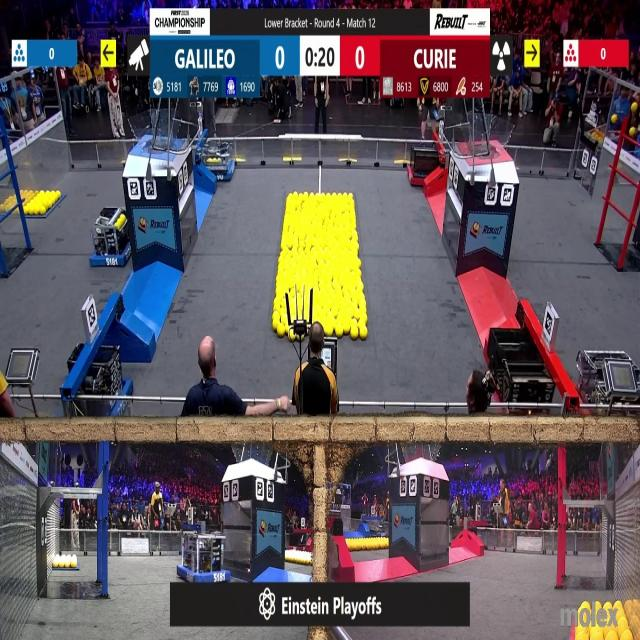ball_ground: (324, 324, 333, 336), (358, 327, 366, 339), (277, 325, 285, 337), (336, 325, 344, 337), (351, 328, 358, 340), (0, 376, 5, 392), (273, 317, 279, 329), (276, 285, 282, 295), (289, 329, 294, 340), (25, 205, 30, 215), (356, 261, 361, 269), (275, 296, 279, 304)
goal: (461, 118, 516, 158), (129, 116, 186, 152)
robot_blue: (60, 342, 131, 417), (178, 532, 231, 585), (90, 210, 134, 270), (200, 138, 237, 182)
robot_red: (497, 332, 558, 414), (408, 141, 446, 188), (284, 529, 309, 550)
